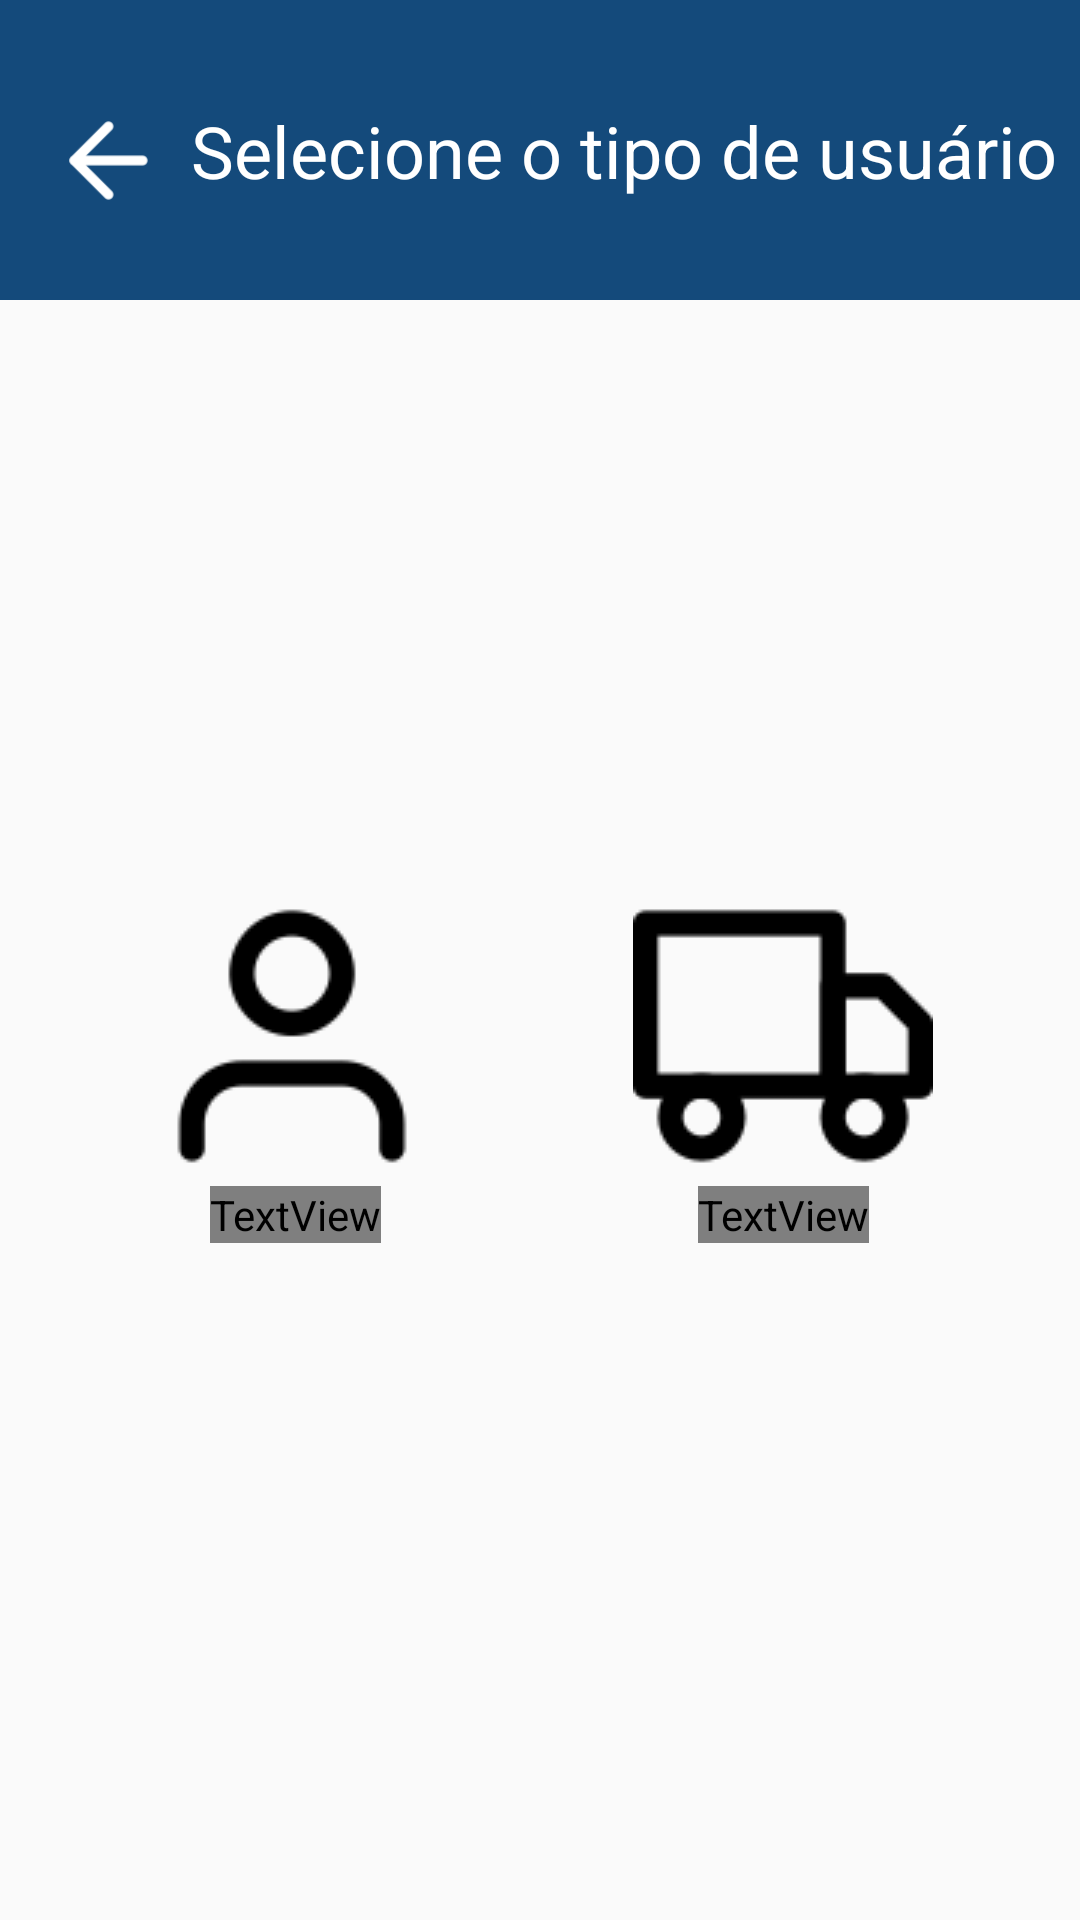

Icons on this 1080px x 1920px Android screen, each with its box as (x1, y1, x2, y2):
Fornecedor: (633, 909, 933, 1163)
Usuário: (177, 909, 407, 1163)
Voltar: (69, 121, 148, 200)
